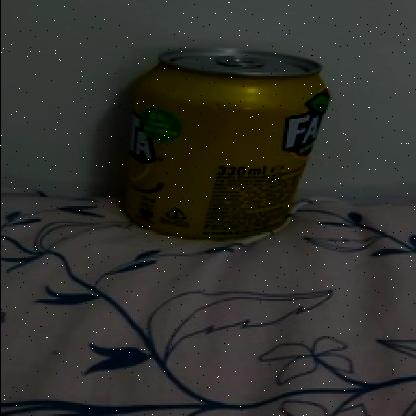Can: (117, 37, 332, 253)
